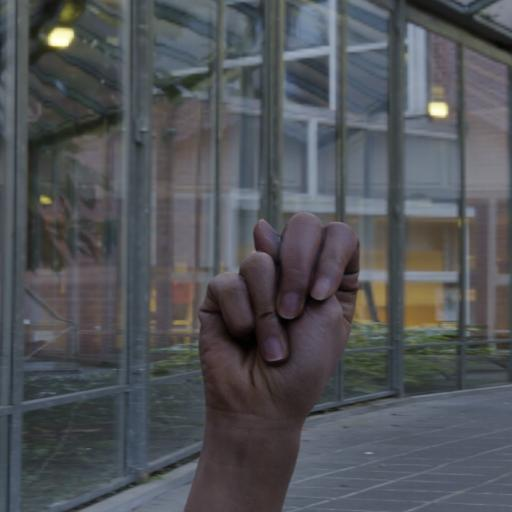N: (189, 204, 367, 429)
